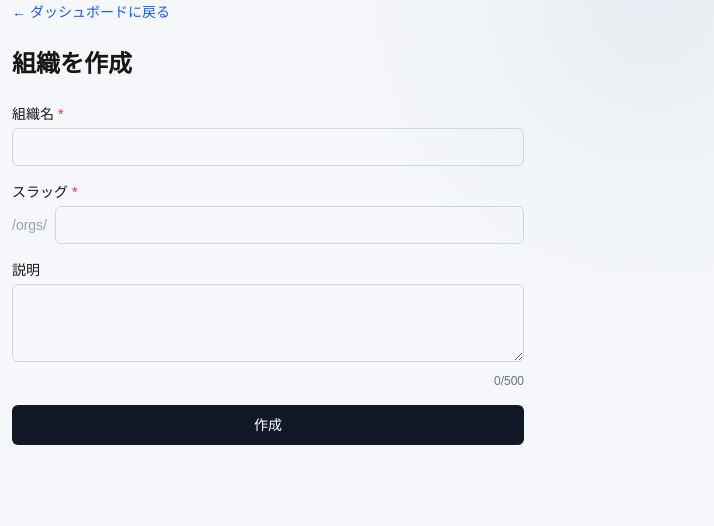
Scenario: NewOrgPage › shows server error when org creation fails
Type "Research Lab" into the field labelled "組織名 *".
click(268, 147); type("Research Lab")  # box [12, 128, 524, 166]
Wait 400 ms
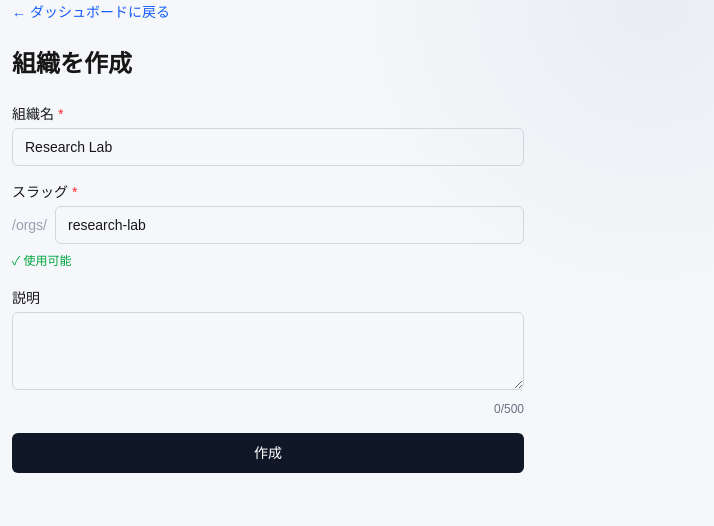
Check: the text "✓ 使用可能" is shown, box [12, 254, 72, 268]
Click the button "作成".
click(268, 453)  # box [12, 433, 524, 473]
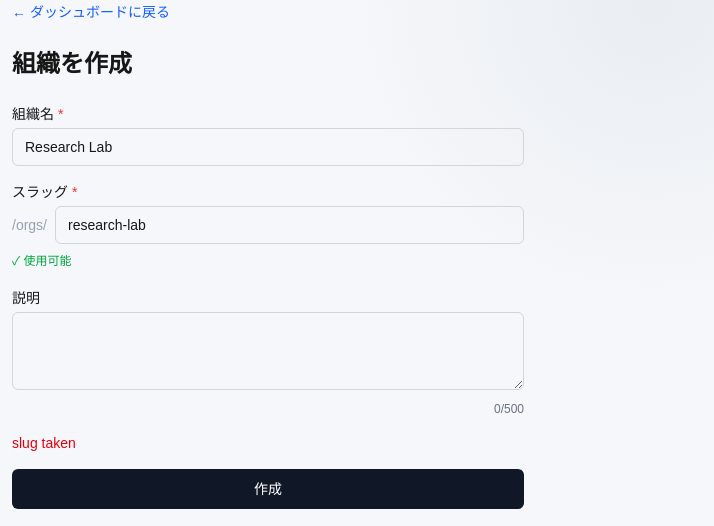
Check: the text "slug taken" is shown, box [12, 435, 76, 451]
